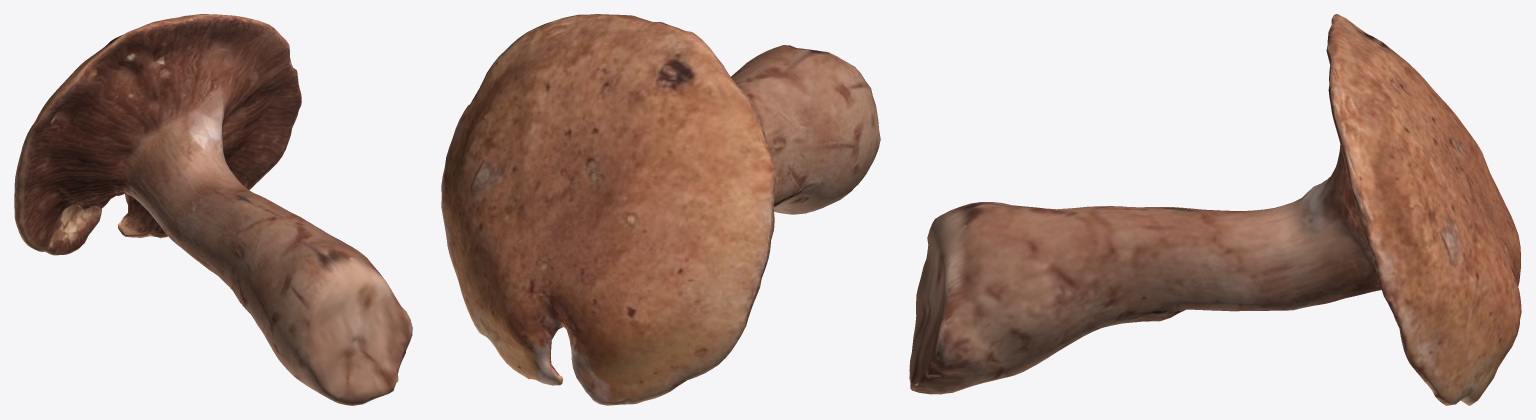
Rendered from mushroom_g01.glb.
3 renders of one model, left to right at view 1: azimuth 30°, elevation 25°; view 2: azimuth 150°, elevation 25°; view 3: azimuth 270°, elevation 25°, orthographic. The views are drawn at different scales.
Parts seen in each view (by area): view 1: sm_food_produce_mushroom_g01_mesh_00; view 2: sm_food_produce_mushroom_g01_mesh_00; view 3: sm_food_produce_mushroom_g01_mesh_00.
Part boxes in pixels (x1,y1,x2,y2): sm_food_produce_mushroom_g01_mesh_00: (14, 14, 412, 405); sm_food_produce_mushroom_g01_mesh_00: (441, 14, 880, 405); sm_food_produce_mushroom_g01_mesh_00: (909, 14, 1521, 405).
Bounding box in the file's own units: 0.0381 × 0.0357 × 0.0586.
Materials: 1 (1 with a texture image).
